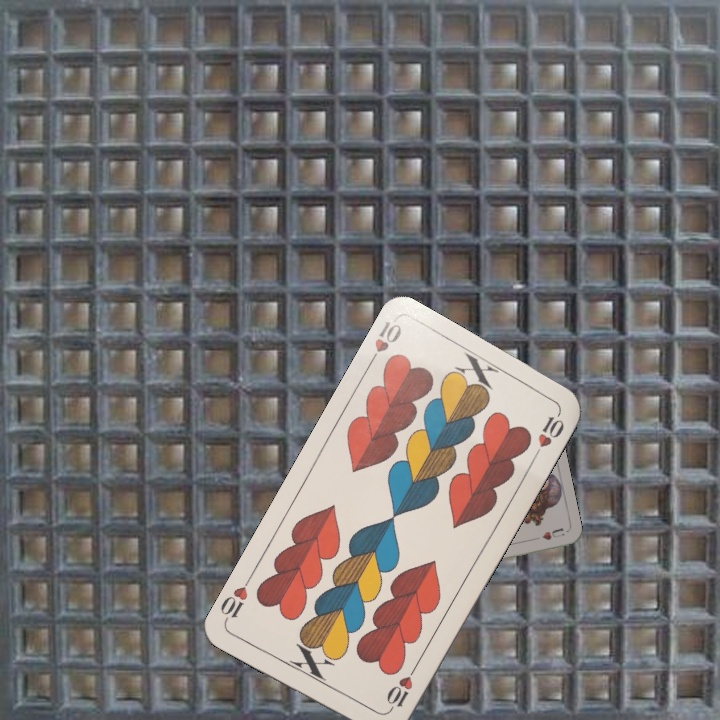H10: (363, 316, 405, 370), (382, 662, 420, 716)
